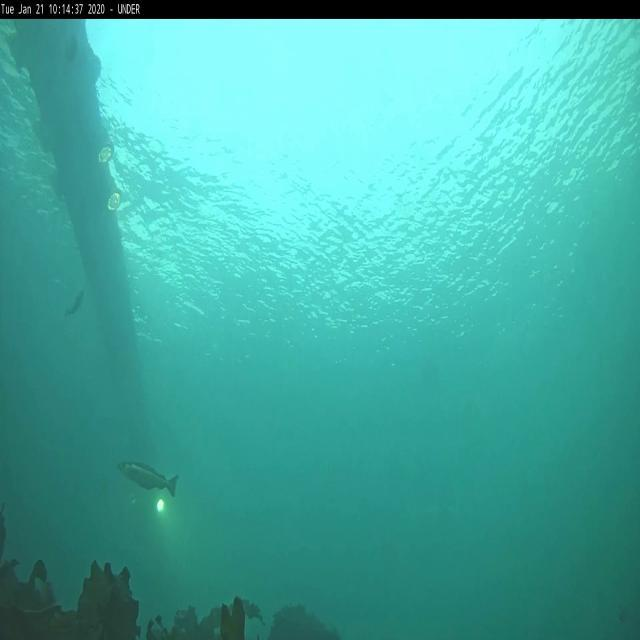fish: (115, 460, 179, 494), (64, 290, 85, 318)
